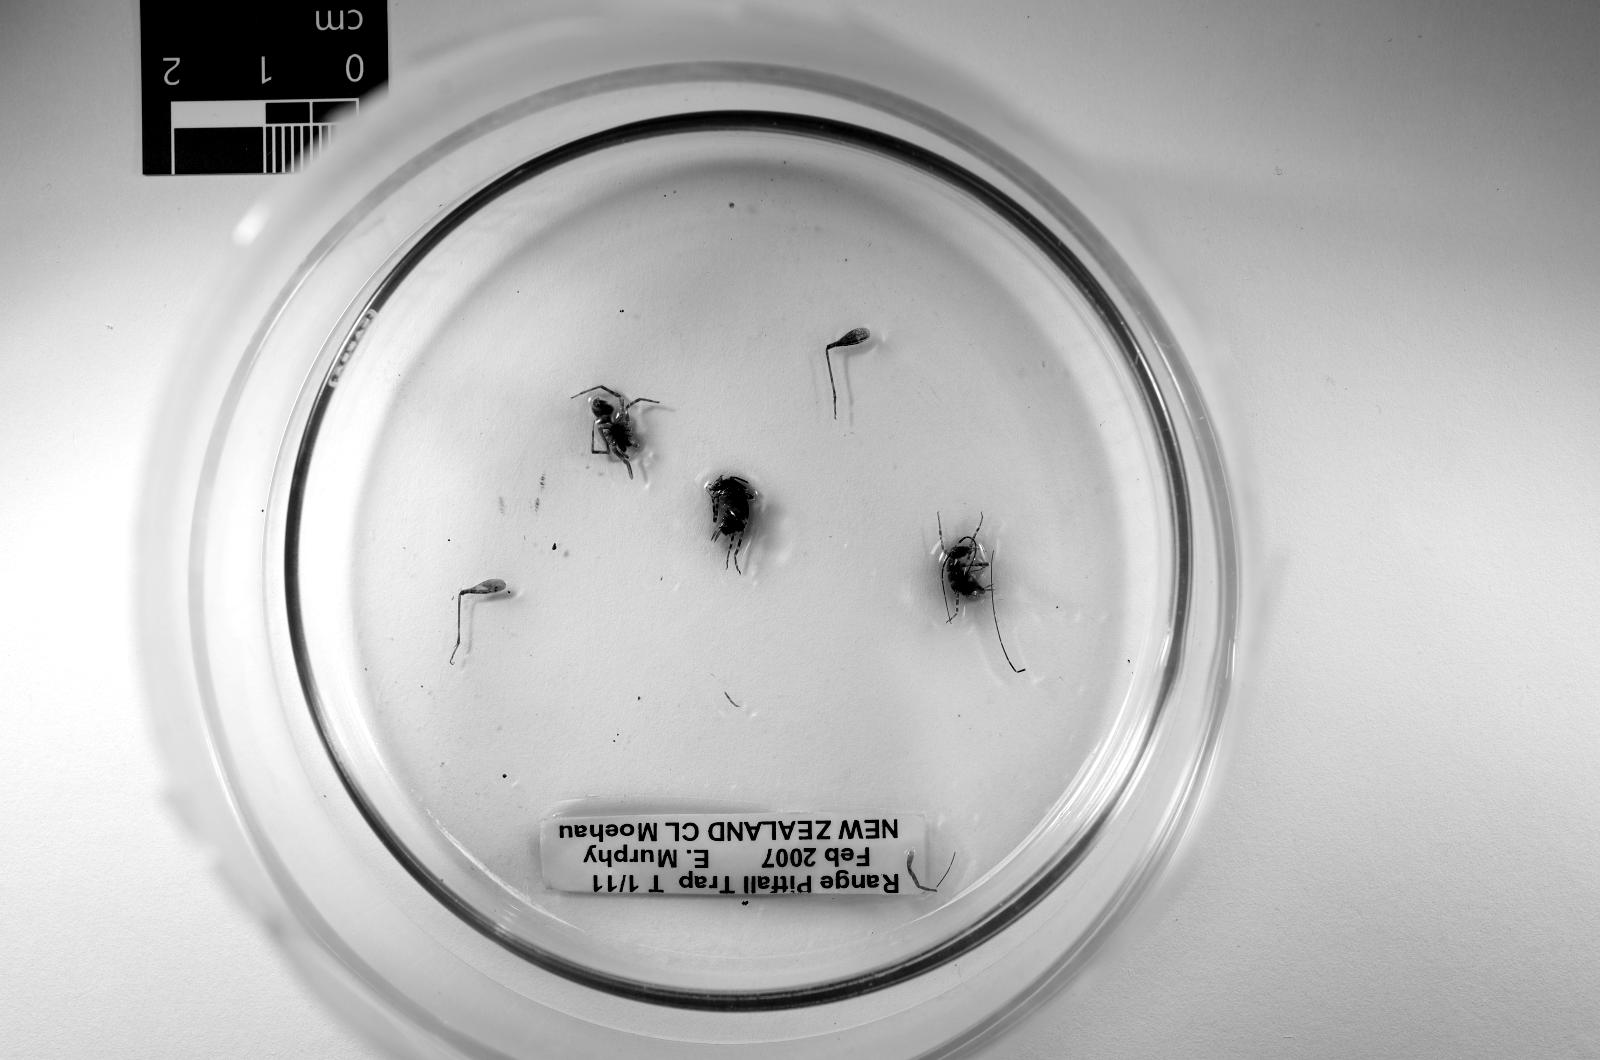araneae: (575, 386, 660, 478)
orthoptera: (938, 516, 993, 621), (706, 476, 757, 565)
